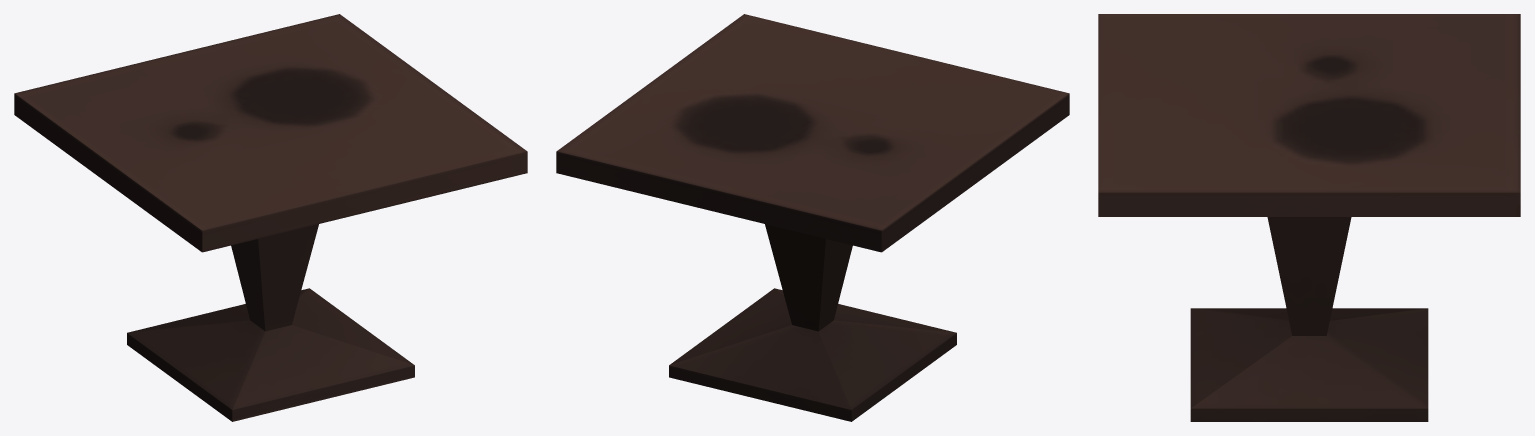
File: Tx_props_table_10.fbx
3 views of the same model, side by side, from view 1: azimuth 30°, elevation 25°; view 2: azimuth 150°, elevation 25°; view 3: azimuth 270°, elevation 25° (orthographic). The views are drawn at different scales.
Visible parts, largest first — view 1: Tx_props_table; view 2: Tx_props_table; view 3: Tx_props_table.
Boxes of the visible parts, x1,y1,x2,y2 form: Tx_props_table: (14, 14, 527, 421); Tx_props_table: (556, 14, 1069, 421); Tx_props_table: (1098, 14, 1520, 421).
Size of the model in its own units: 5 by 3.51 by 5.
